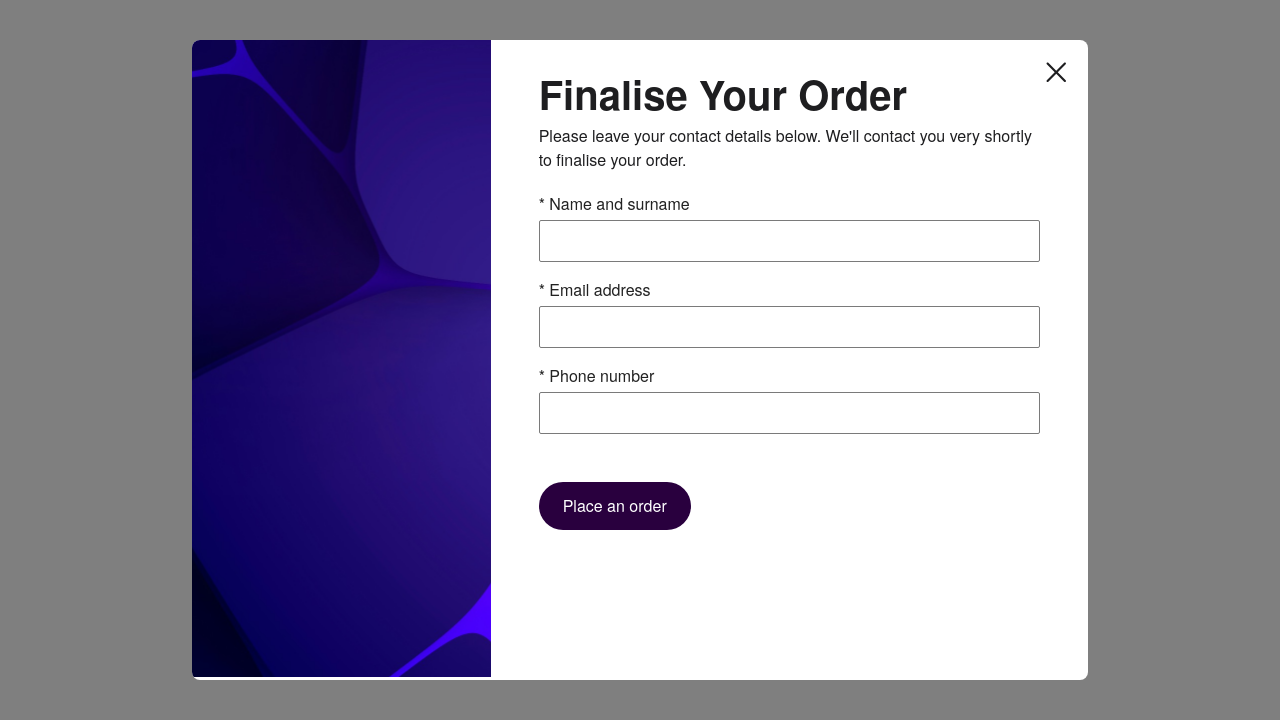
Test: OrderForm › submits the form with valid data
Fill out the form
Step 1. Type "John Doe" into the field labelled "* Name and surname" → x=789, y=241, box [539, 220, 1040, 262]
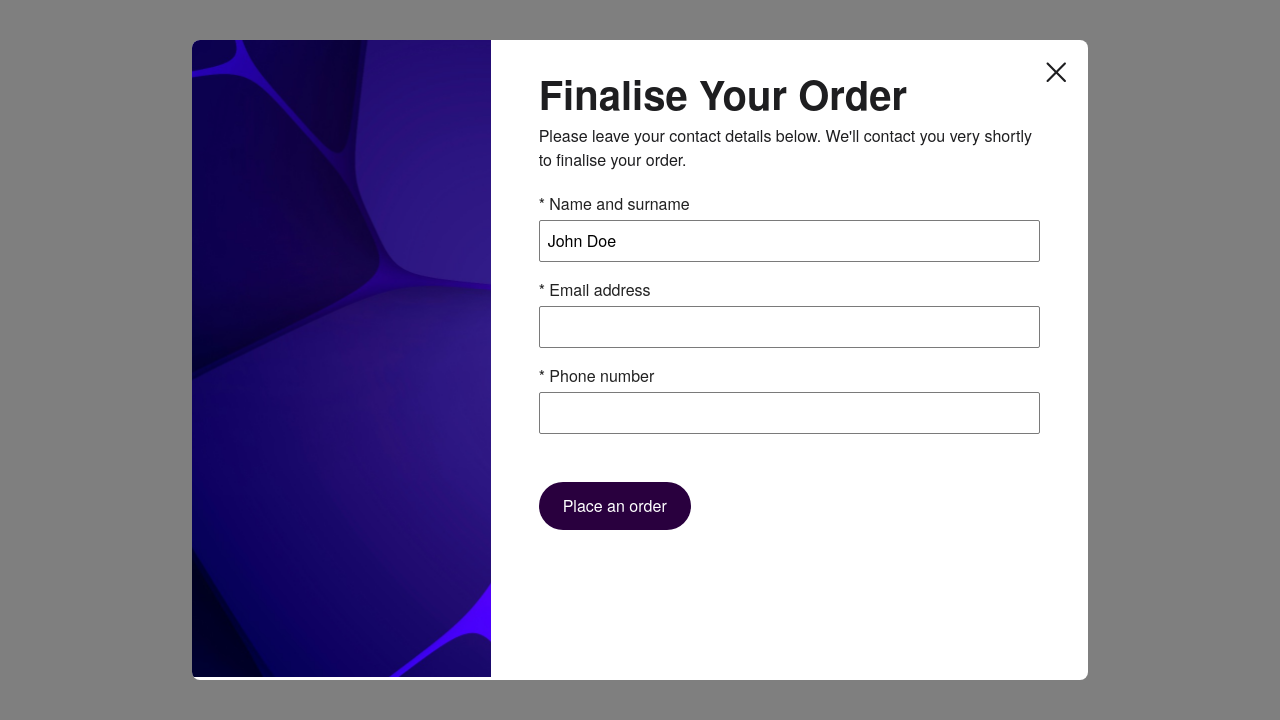
Step 2. Type "john@example.com" into the field labelled "* Email address" → x=789, y=327, box [539, 306, 1040, 348]
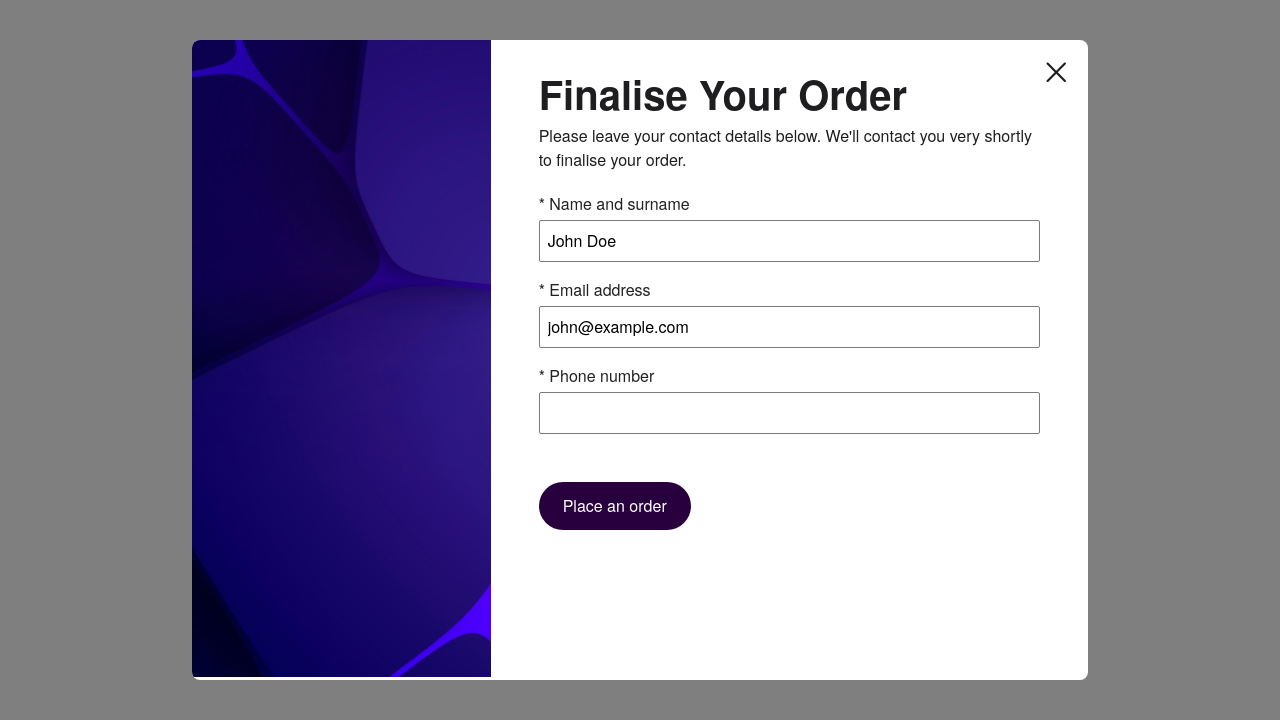
Step 3. Type "1234567890" into the field labelled "* Phone number" → x=789, y=413, box [539, 392, 1040, 434]
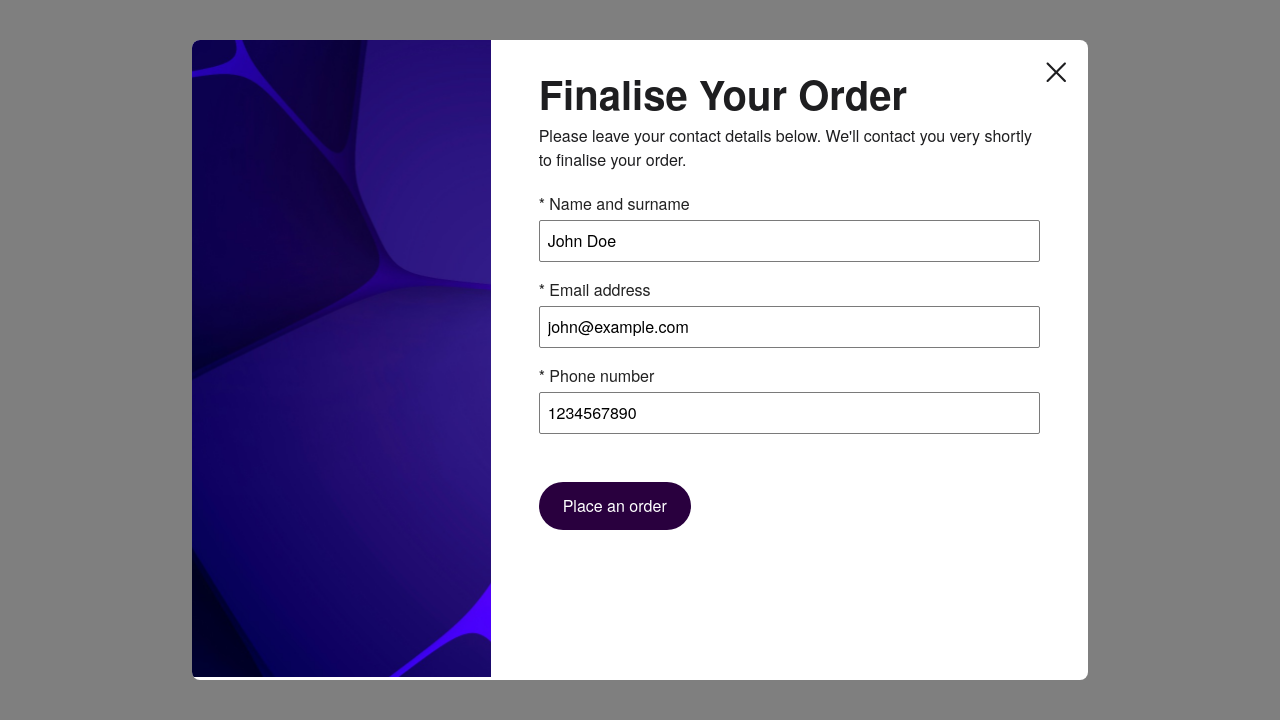
Submit the form
Step 4. Click the button "Place an order" → x=615, y=506, box [539, 482, 691, 530]
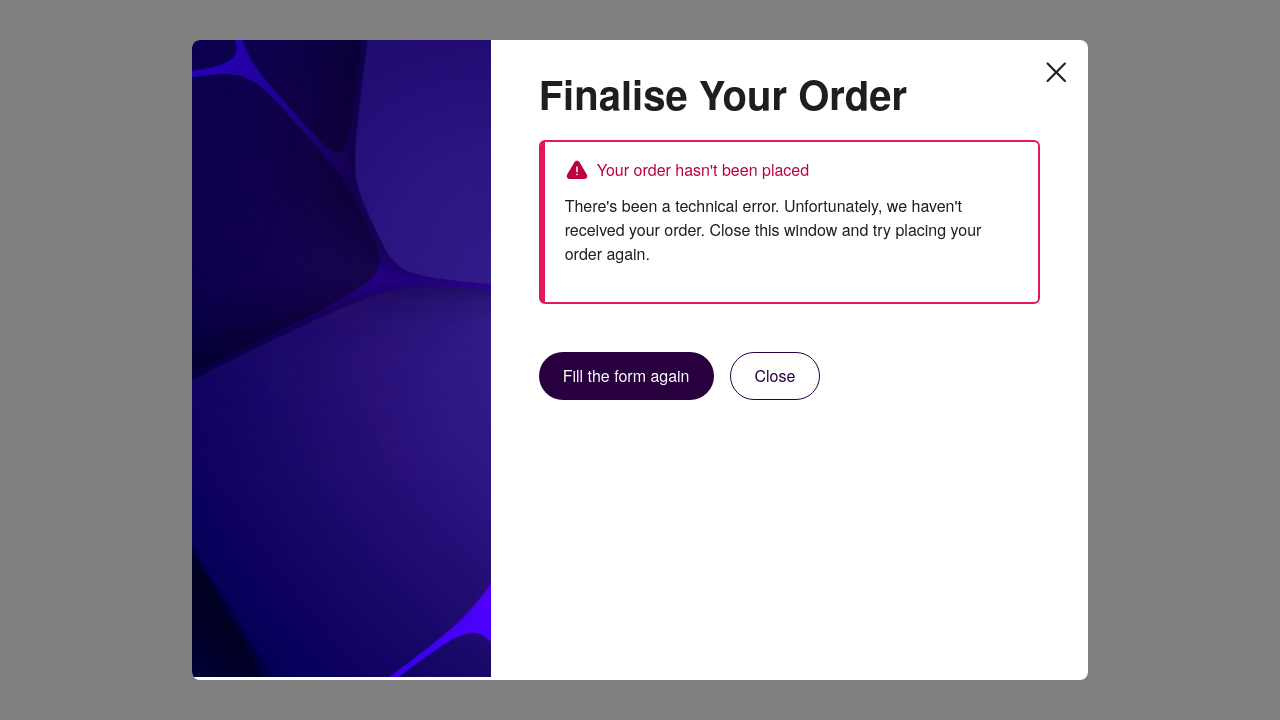
Expected: the text "received your order" is shown, [565, 194, 982, 265]
